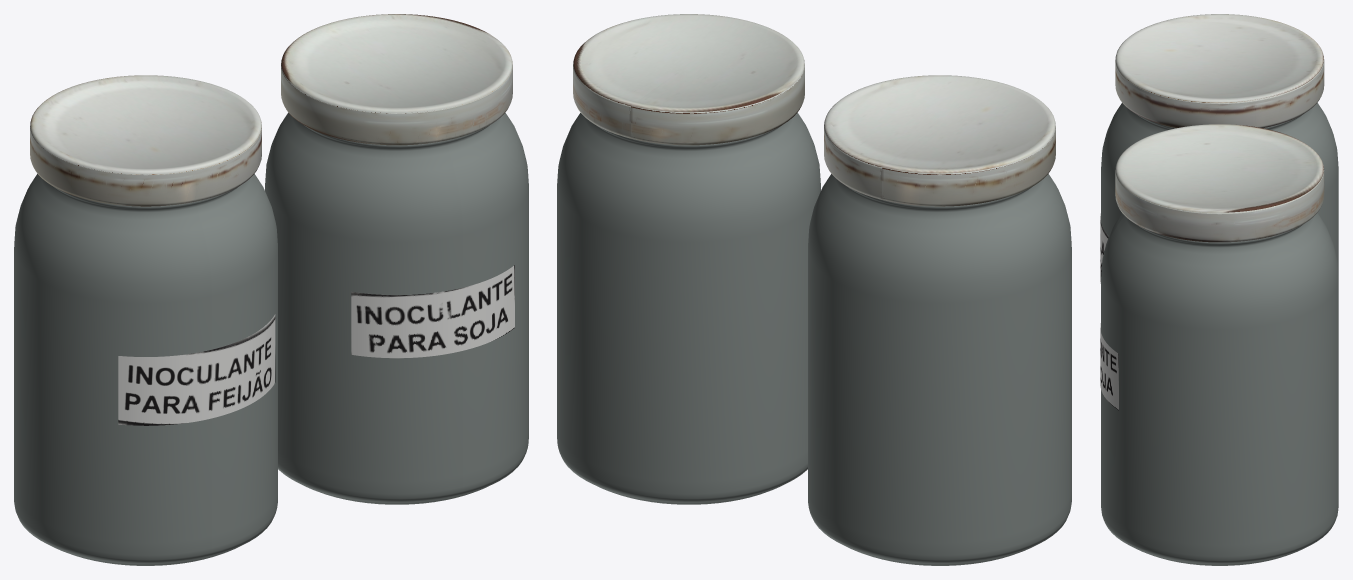
File: inoculantes_12_04_web.glb
The picture shows the model from 3 angles, left to right: view 1: azimuth 30°, elevation 25°; view 2: azimuth 150°, elevation 25°; view 3: azimuth 270°, elevation 25°; orthographic projection. The views are drawn at different scales.
Visible parts, largest first — view 1: Vidro_Pote_Inoculante_Feijao, Vidro_Pote_Inoculante_Soja, Tampa_Pote_Inoculante_Soja, Tampa_Pote_Inoculante_Feijao, Rotulo_Pote_Inoculante_Feijao, Rotulo_Pote_Inoculante_Soja; view 2: Vidro_Pote_Inoculante_Feijao, Vidro_Pote_Inoculante_Soja, Tampa_Pote_Inoculante_Soja, Tampa_Pote_Inoculante_Feijao; view 3: Vidro_Pote_Inoculante_Soja, Tampa_Pote_Inoculante_Soja, Tampa_Pote_Inoculante_Feijao, Vidro_Pote_Inoculante_Feijao, Rotulo_Pote_Inoculante_Soja.
Boxes of the visible parts, x1,y1,x2,y2 form: Vidro_Pote_Inoculante_Feijao: (14, 174, 277, 565); Vidro_Pote_Inoculante_Soja: (265, 112, 528, 504); Tampa_Pote_Inoculante_Soja: (281, 14, 512, 145); Tampa_Pote_Inoculante_Feijao: (30, 75, 261, 206); Rotulo_Pote_Inoculante_Feijao: (118, 314, 275, 425); Rotulo_Pote_Inoculante_Soja: (351, 265, 514, 358); Vidro_Pote_Inoculante_Feijao: (808, 174, 1071, 565); Vidro_Pote_Inoculante_Soja: (557, 112, 820, 504); Tampa_Pote_Inoculante_Soja: (573, 14, 804, 145); Tampa_Pote_Inoculante_Feijao: (824, 75, 1055, 206); Vidro_Pote_Inoculante_Soja: (1101, 213, 1338, 565); Tampa_Pote_Inoculante_Soja: (1115, 124, 1324, 242); Tampa_Pote_Inoculante_Feijao: (1115, 14, 1324, 128); Vidro_Pote_Inoculante_Feijao: (1101, 103, 1338, 275); Rotulo_Pote_Inoculante_Soja: (1100, 323, 1118, 410).
Size of the model in its own units: 0.1719 by 0.1353 by 0.0822.
Materials: 8 (6 with a texture image).
